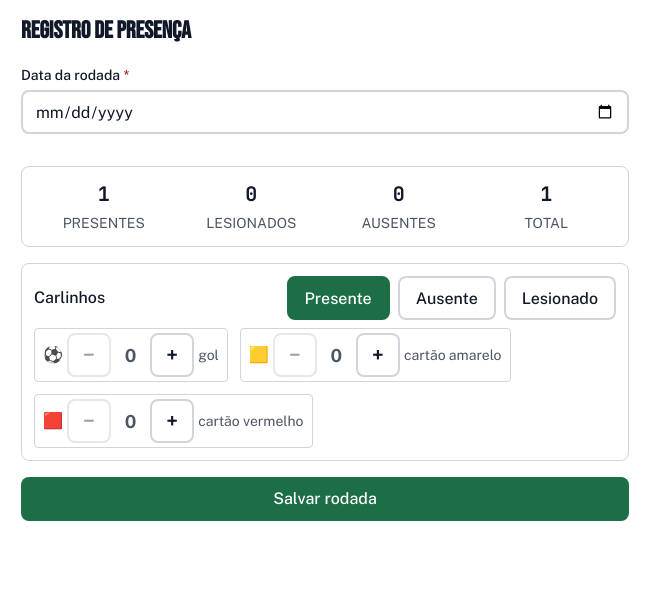
LancamentoRodadaForm › Salvar rodada sem data preenchida mostra erro do campo e não abre o modal de confirmação
This screenshot has width=651, height=596.
Expected: the heading "Registro de presença" is shown, [21,16,191,45]
Click the button "Salvar rodada": coordinates (325, 499) [21,477,629,521]
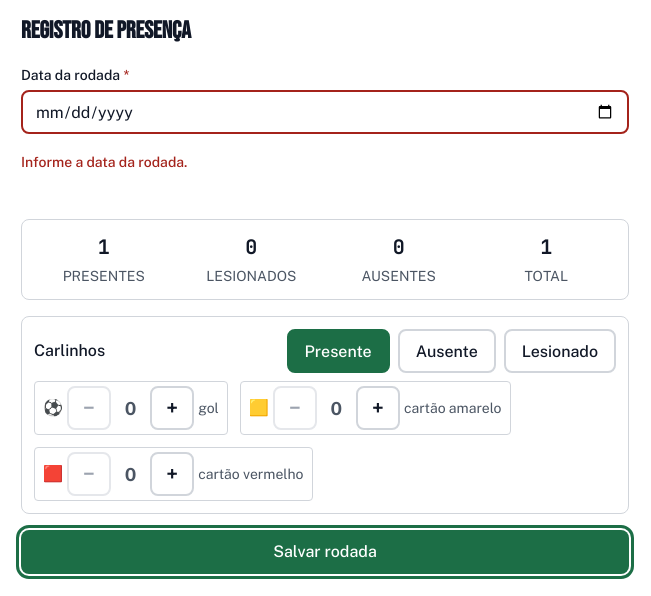
Expected: the text "Informe a data da rodada." is shown, [21,154,187,170]
